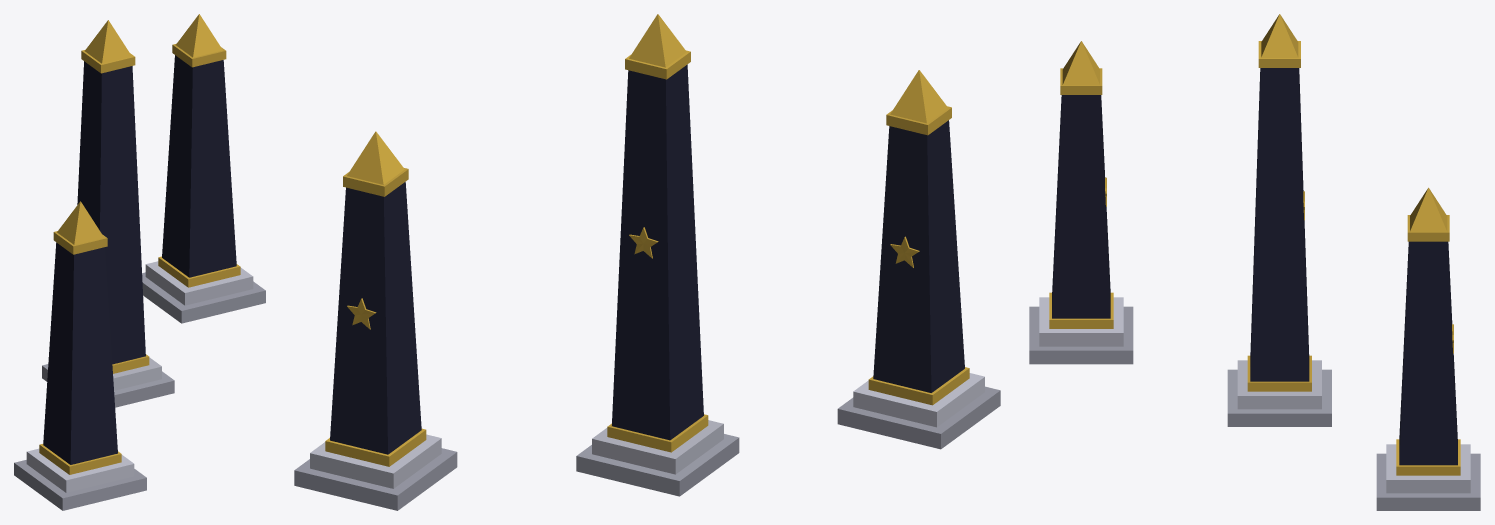
File: Decor_ClockTower_StarObelisks.fbx
3 renders of one model, left to right at view 1: azimuth 30°, elevation 25°; view 2: azimuth 150°, elevation 25°; view 3: azimuth 270°, elevation 25°, orthographic. The views are drawn at different scales.
Parts seen in each view (by area): view 1: StarObelisks_Body; view 2: StarObelisks_Body; view 3: StarObelisks_Body.
Part boxes in pixels (left/top/right/bottom): StarObelisks_Body: left=14, top=14, right=265, bottom=510; StarObelisks_Body: left=294, top=14, right=1000, bottom=510; StarObelisks_Body: left=1029, top=14, right=1480, bottom=510.
Bounding box in the file's own units: 18.2 × 17.4 × 18.2.
